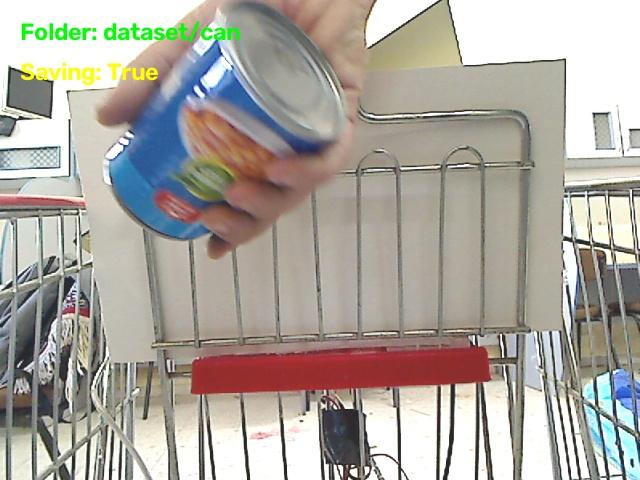can: (105, 1, 345, 239)
